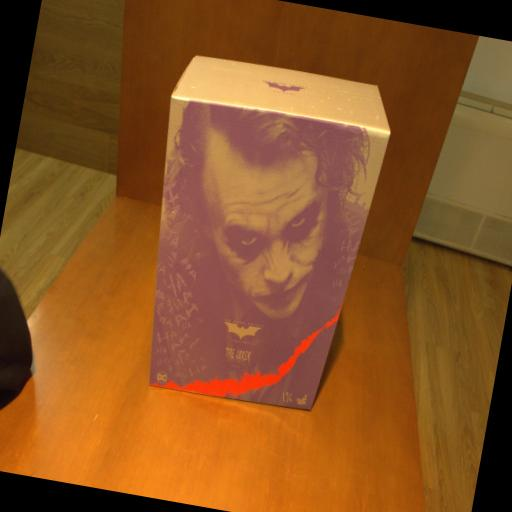Joker: (120, 48, 398, 423)
